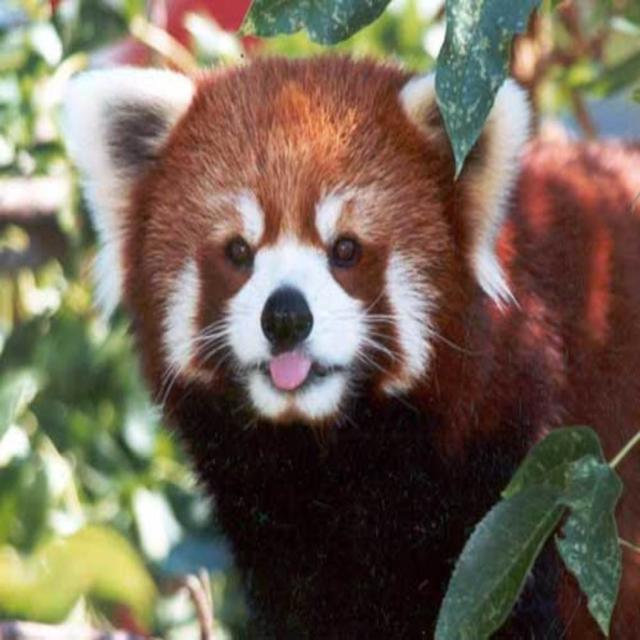not_pig: (62, 47, 639, 638)
